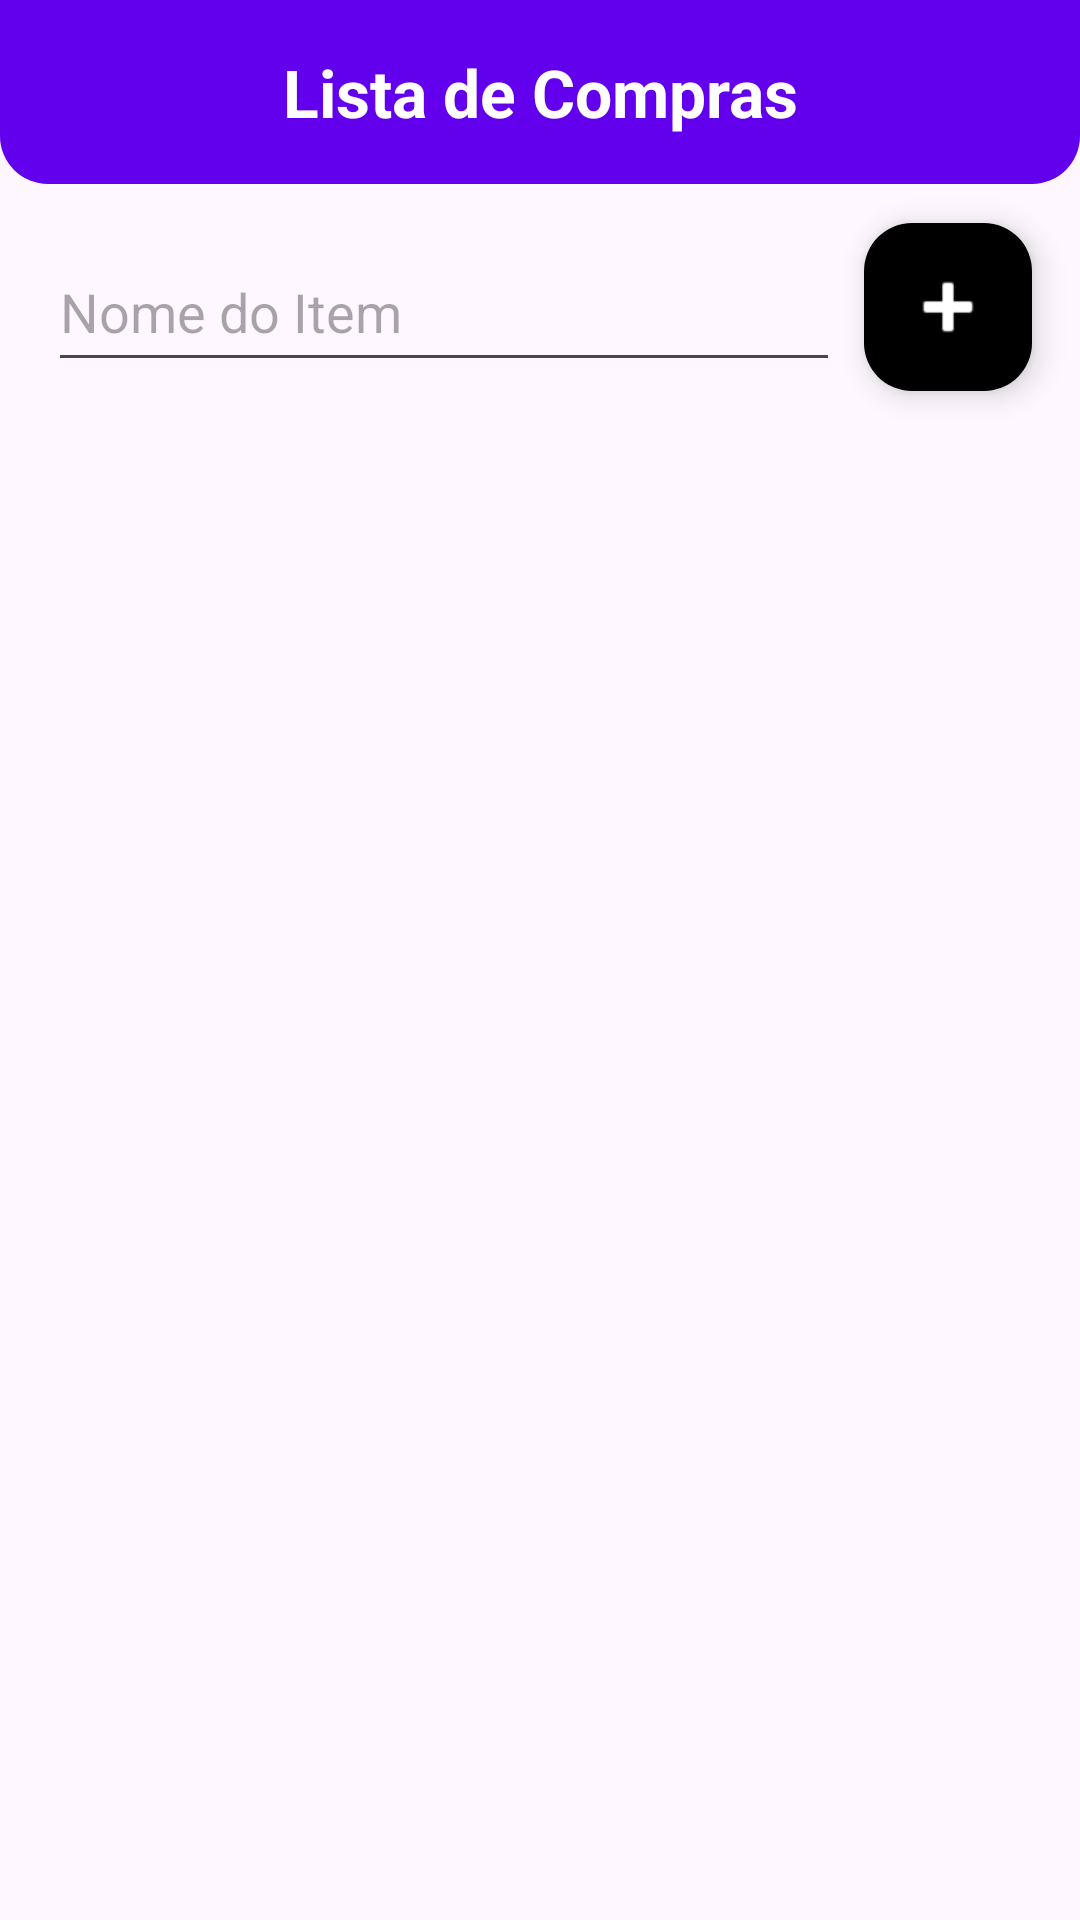

Named icons in this screenshot (1080x1920) and their centers, [x,y]:
Adicionar Novo Item: [948,307]
